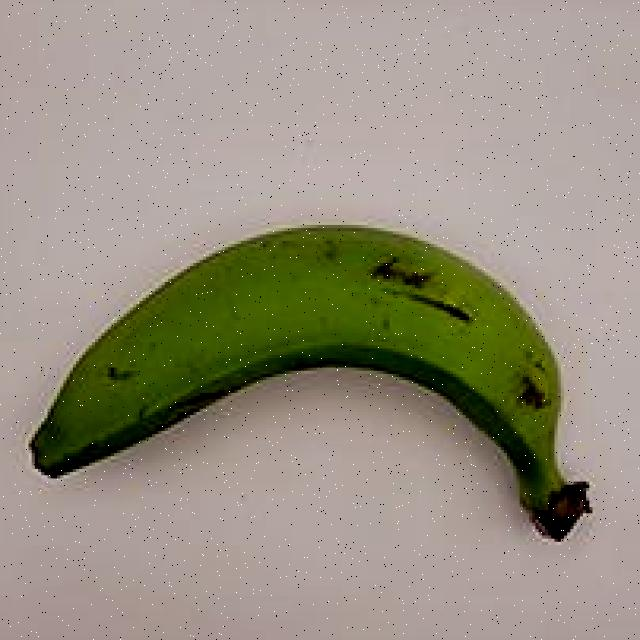Raw: (12, 196, 616, 560)
